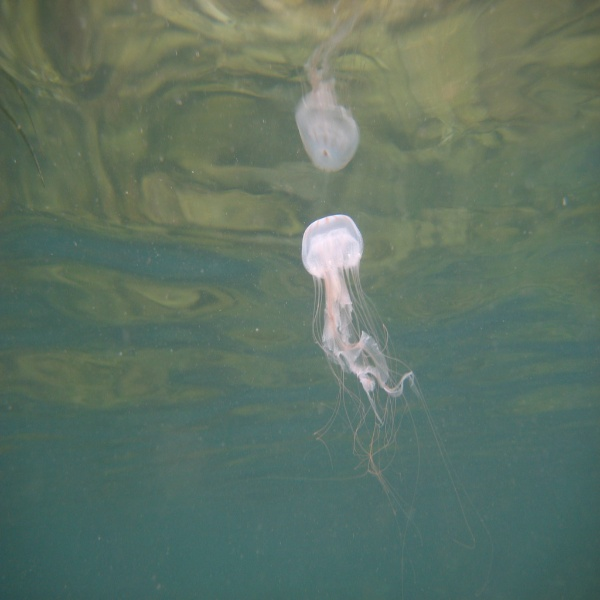Jellyfish: (263, 211, 493, 599)
